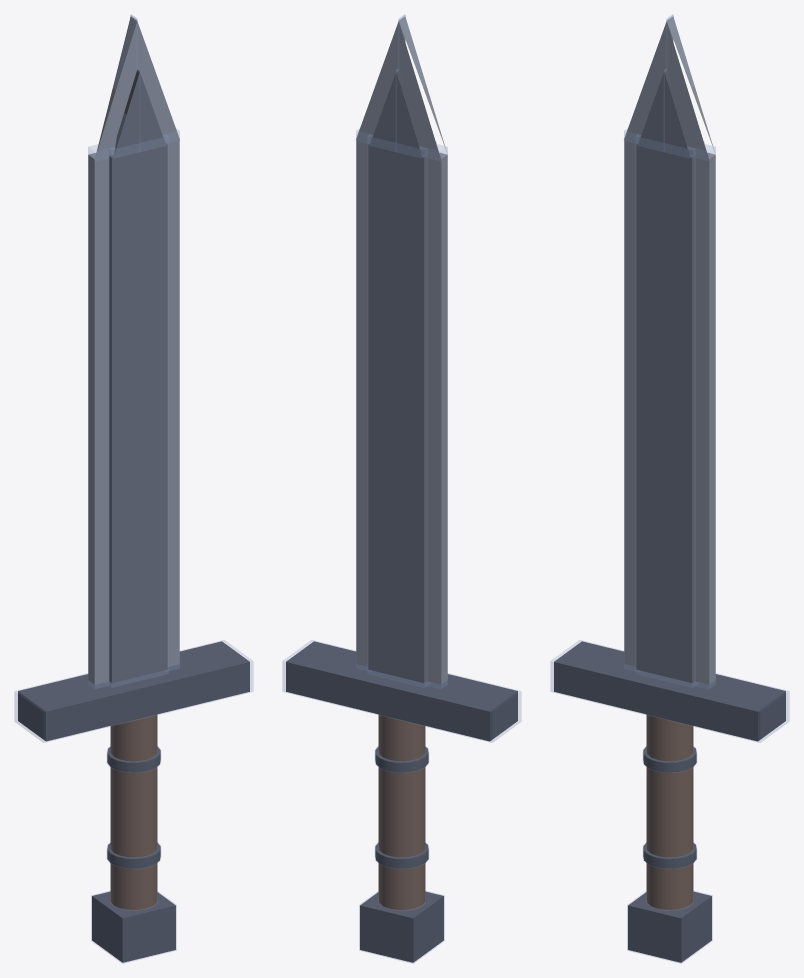
3 views of the same model, side by side, from view 1: azimuth 30°, elevation 25°; view 2: azimuth 150°, elevation 25°; view 3: azimuth 330°, elevation 25° (orthographic).
Parts seen in each view (by area): view 1: rank-none-b; view 2: rank-none-b; view 3: rank-none-b.
Part boxes in pixels (x1=…): rank-none-b: x1=14, y1=14, x2=253, y2=963; rank-none-b: x1=282, y1=14, x2=521, y2=963; rank-none-b: x1=550, y1=14, x2=789, y2=963.
Bounding box in the file's own units: 0.2024 × 0.8551 × 0.0526.
